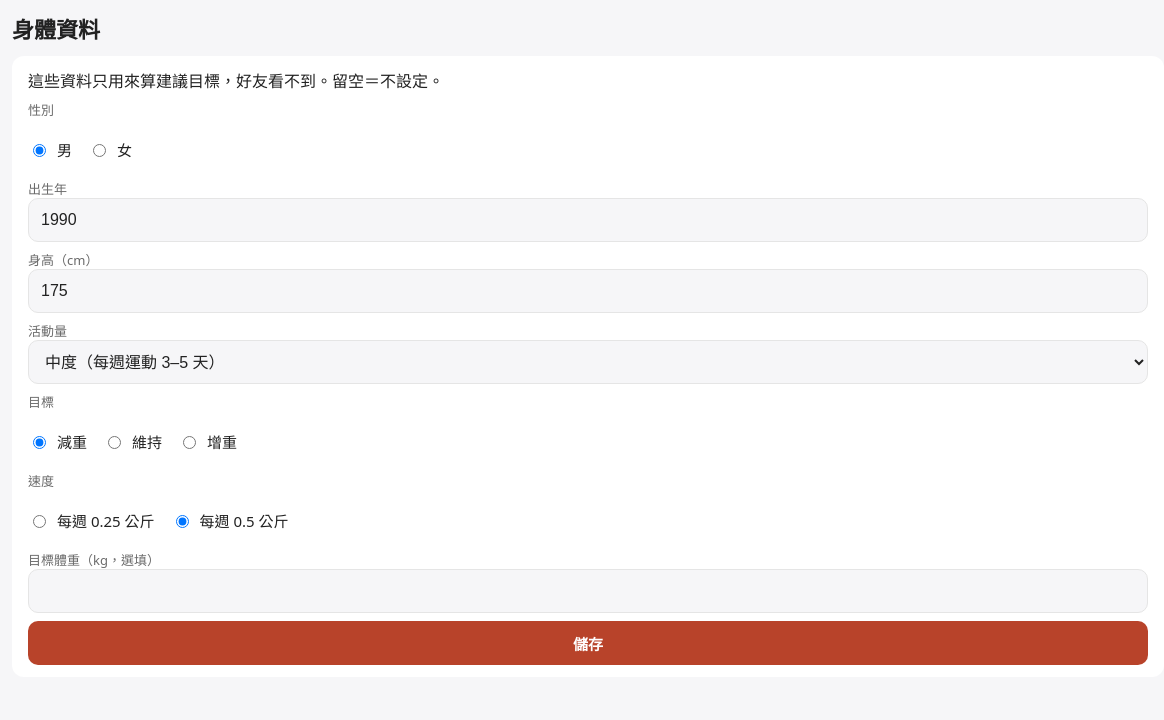
Test case: /me/body › 速度只在減重、增重時出現
expect the element "速度" is shown: met, box [28,472,288,530]
Click the radio button labelled "維持": [114, 442] box [108,436,121,449]
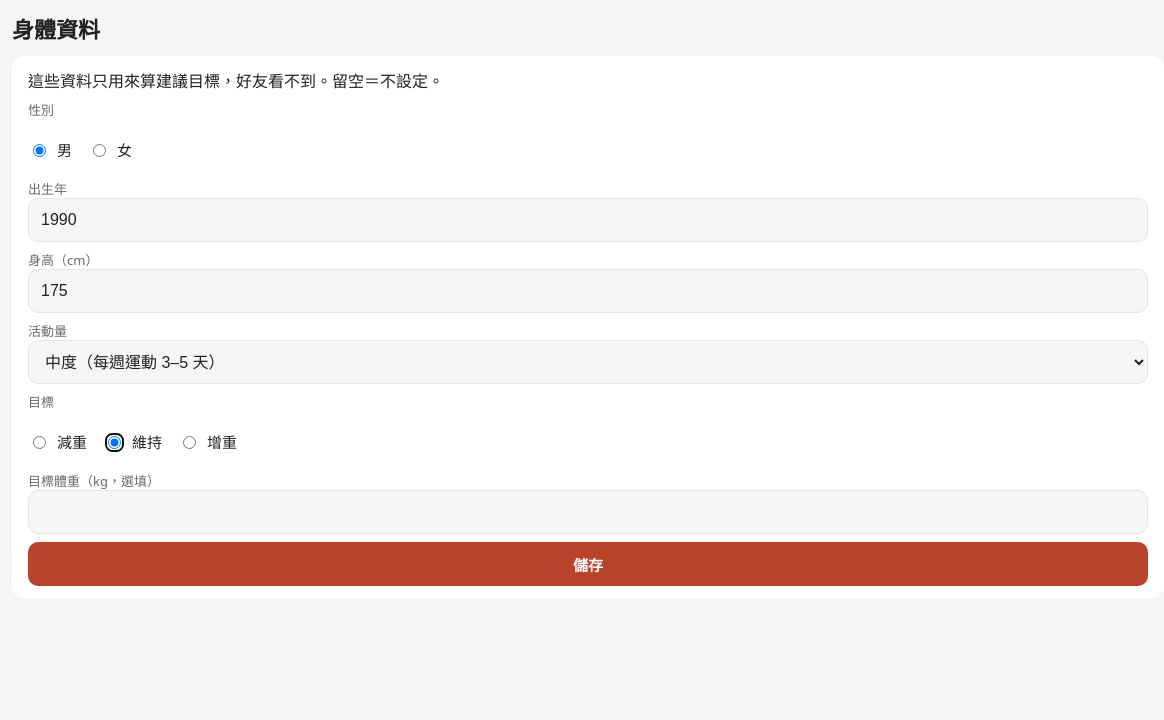
expect the text "速度" is gone: met
Click the radio button labelled "增重": [190, 442] box [183,436,196,449]
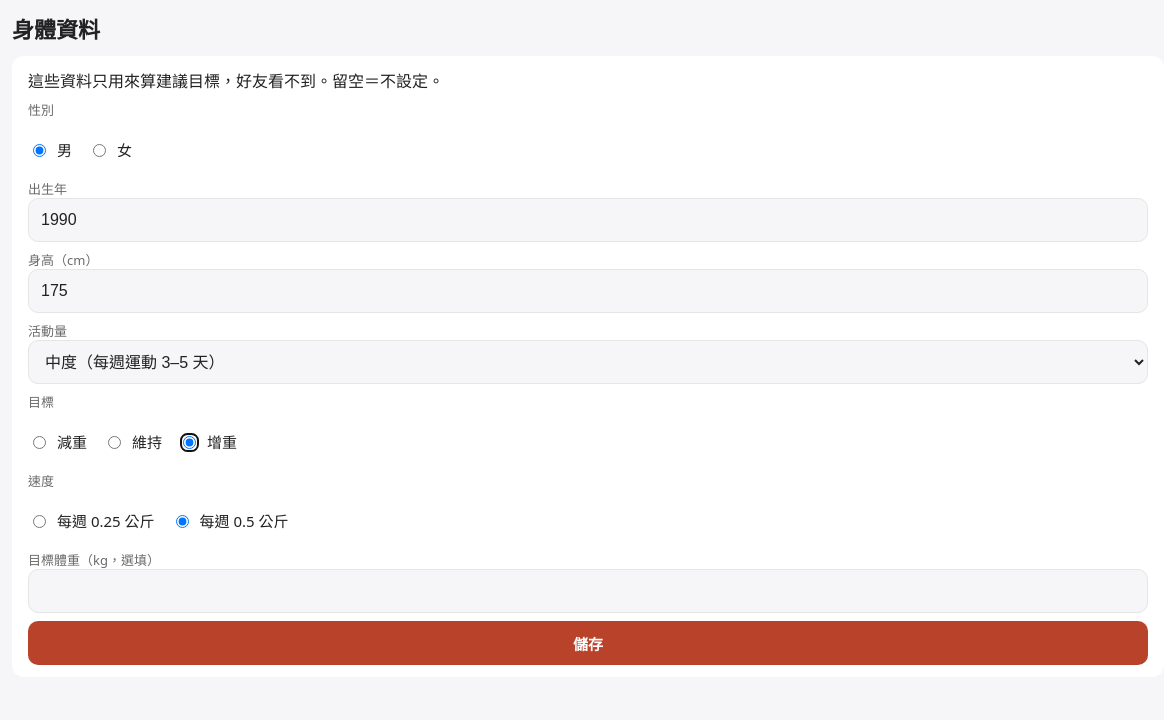
expect the radio button labelled "每週 0.5 公斤" is checked: met, box [176,515,189,528]
